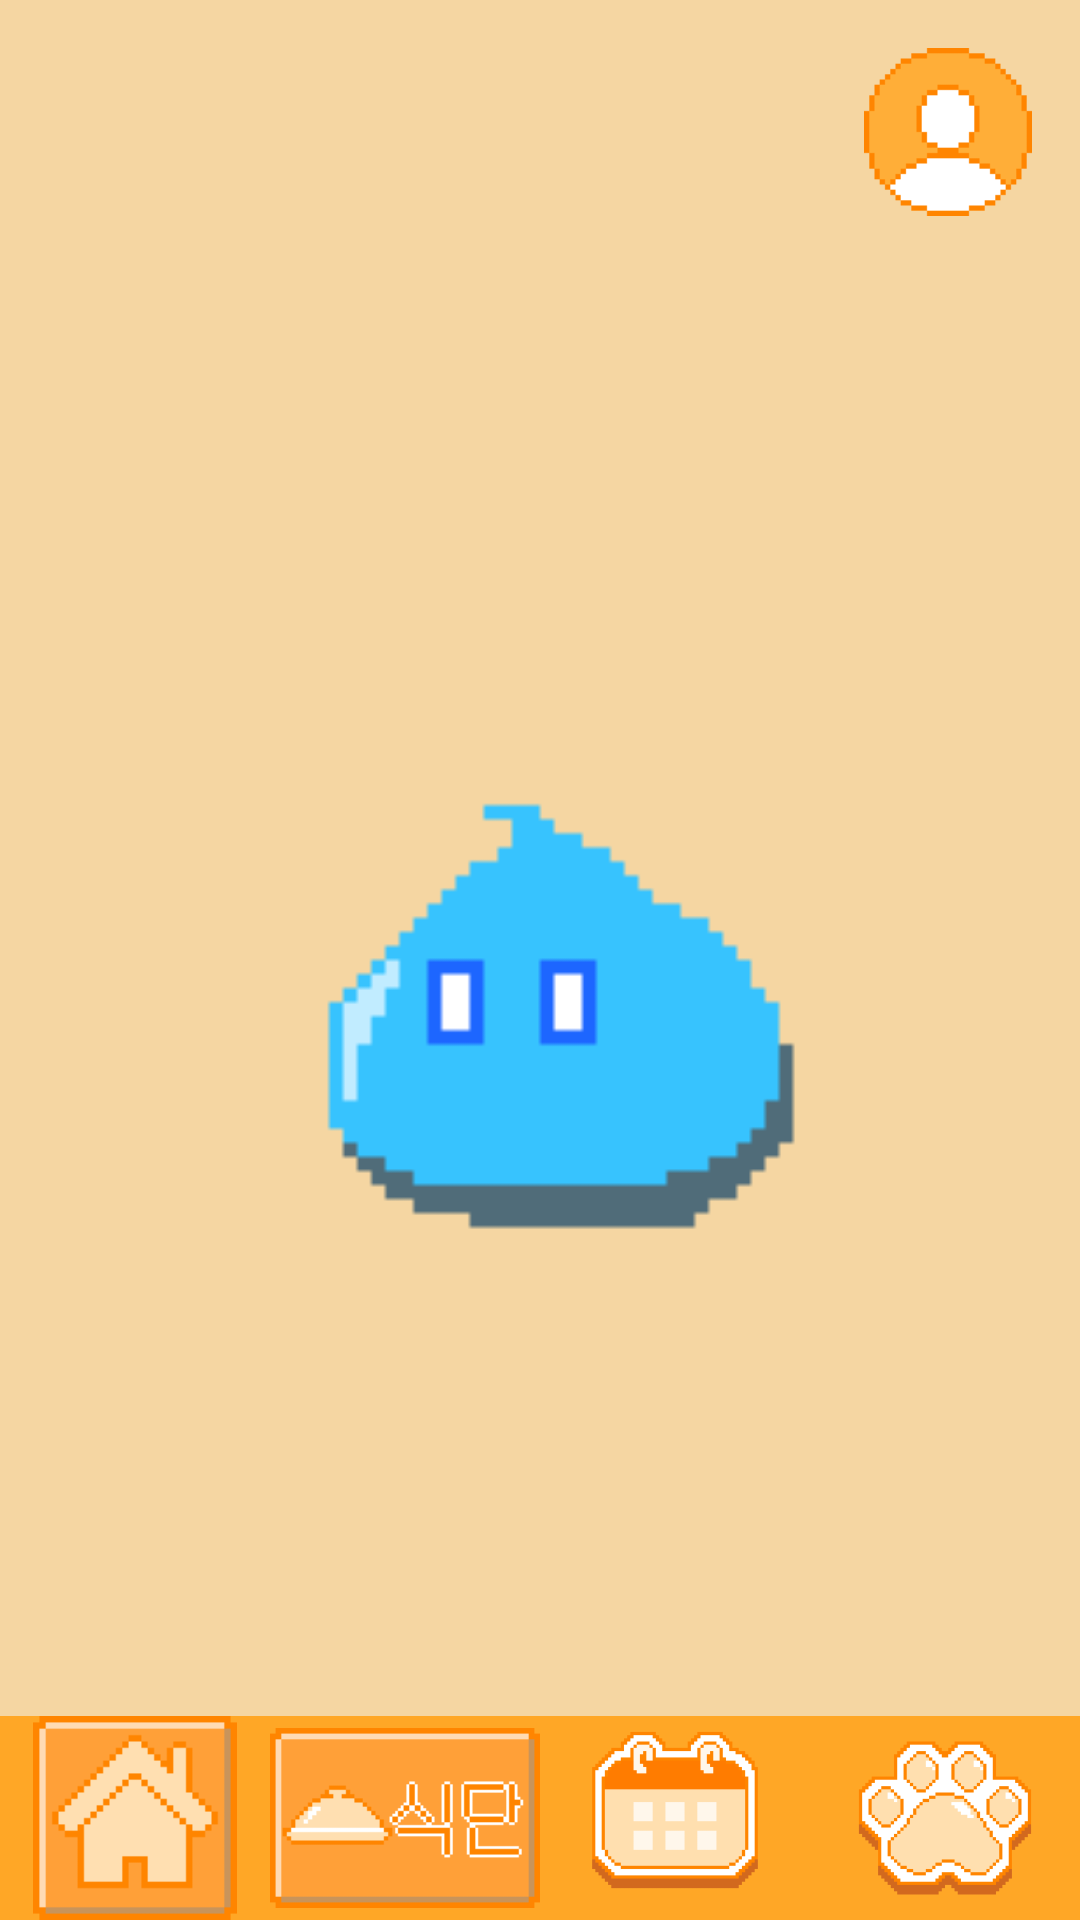

Named icons in this screenshot (1080 x 1920) and their centers, (x=x, y=y):
calendar: (x=675, y=1810)
home: (x=135, y=1818)
pet: (x=945, y=1818)
